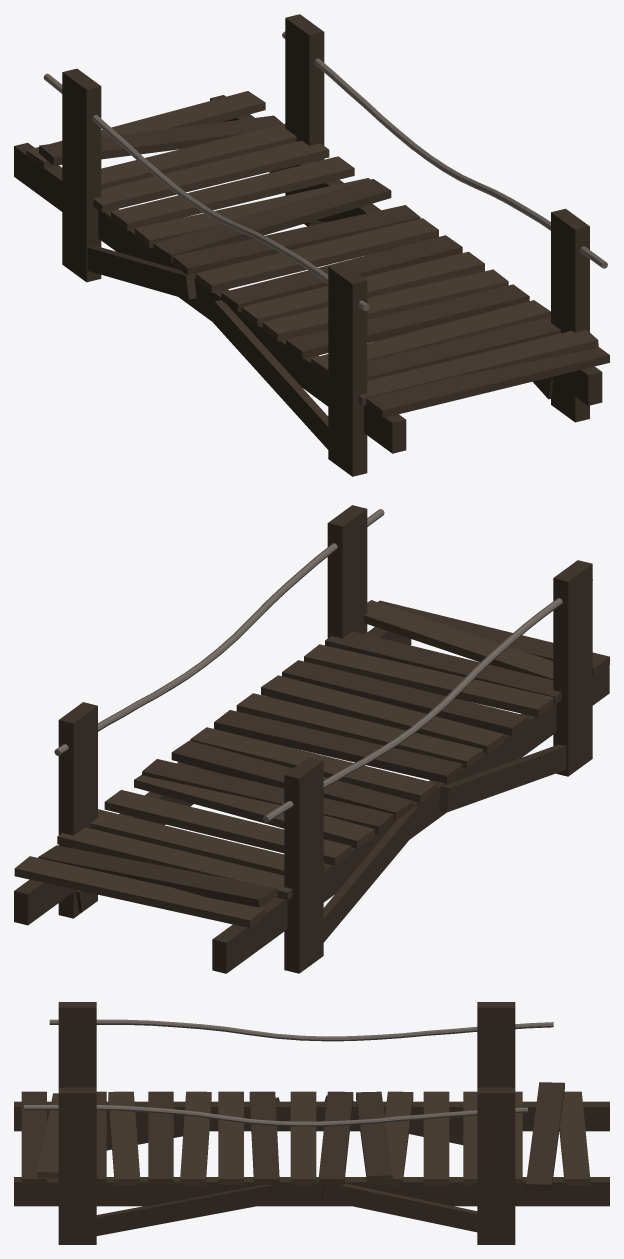
The model's file is bridge.fbx.
3 views of the same model, one above another, from view 1: azimuth 30°, elevation 25°; view 2: azimuth 150°, elevation 25°; view 3: azimuth 270°, elevation 25° (orthographic). The views are drawn at different scales.
Visible parts, largest first — view 1: bridge; view 2: bridge; view 3: bridge.
Part boxes in pixels (<box>): bridge: <box>14,14,609,476</box>; bridge: <box>14,505,609,973</box>; bridge: <box>14,1002,609,1244</box>.
Size of the model in its own units: 13.09 by 36.11 by 10.14.
